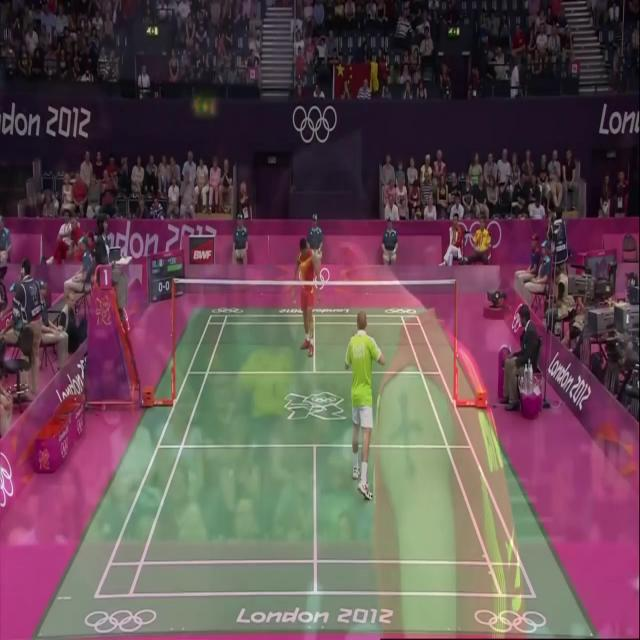Net: (169, 275, 458, 362)
Player1: (340, 307, 386, 504)
Player2: (289, 228, 322, 358)
Shuttlecock: (288, 291, 298, 310)
